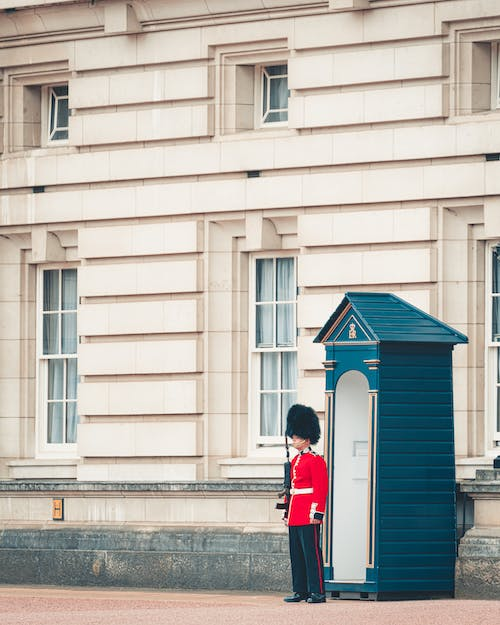gun: (273, 425, 293, 520)
